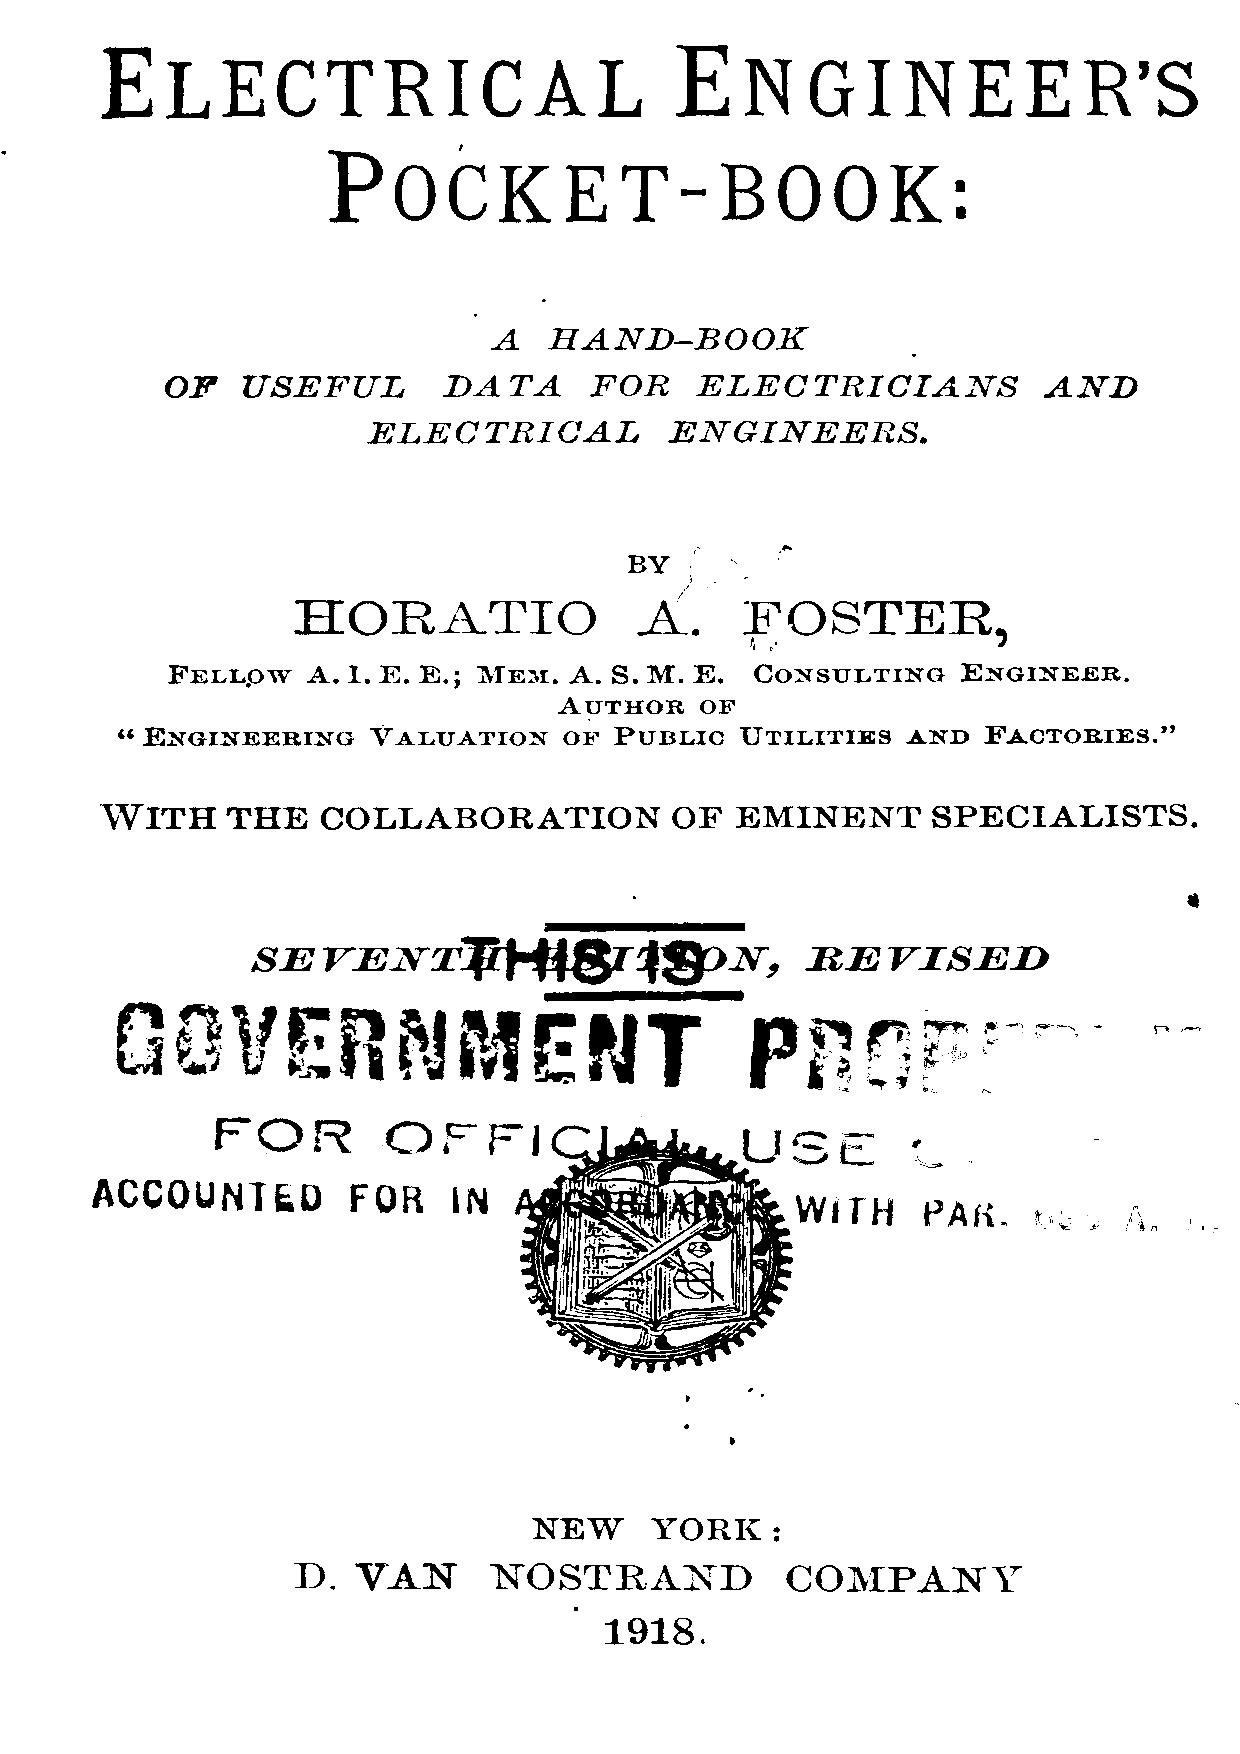author: (290, 549, 1006, 646)
title: (97, 43, 1198, 224)
